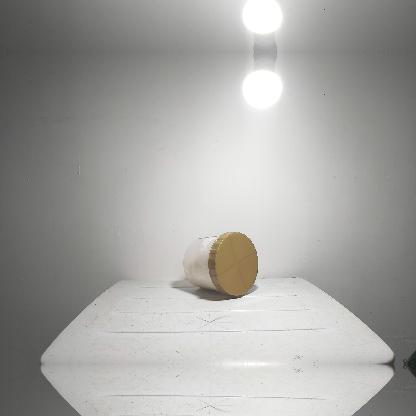Lady-s-Choice: (183, 230, 259, 298)
